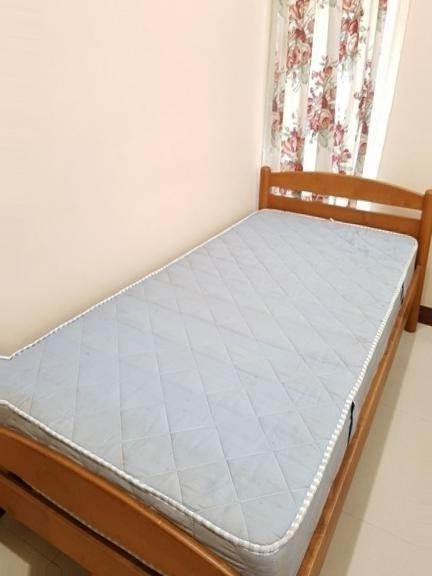bed: (0, 149, 428, 576)
